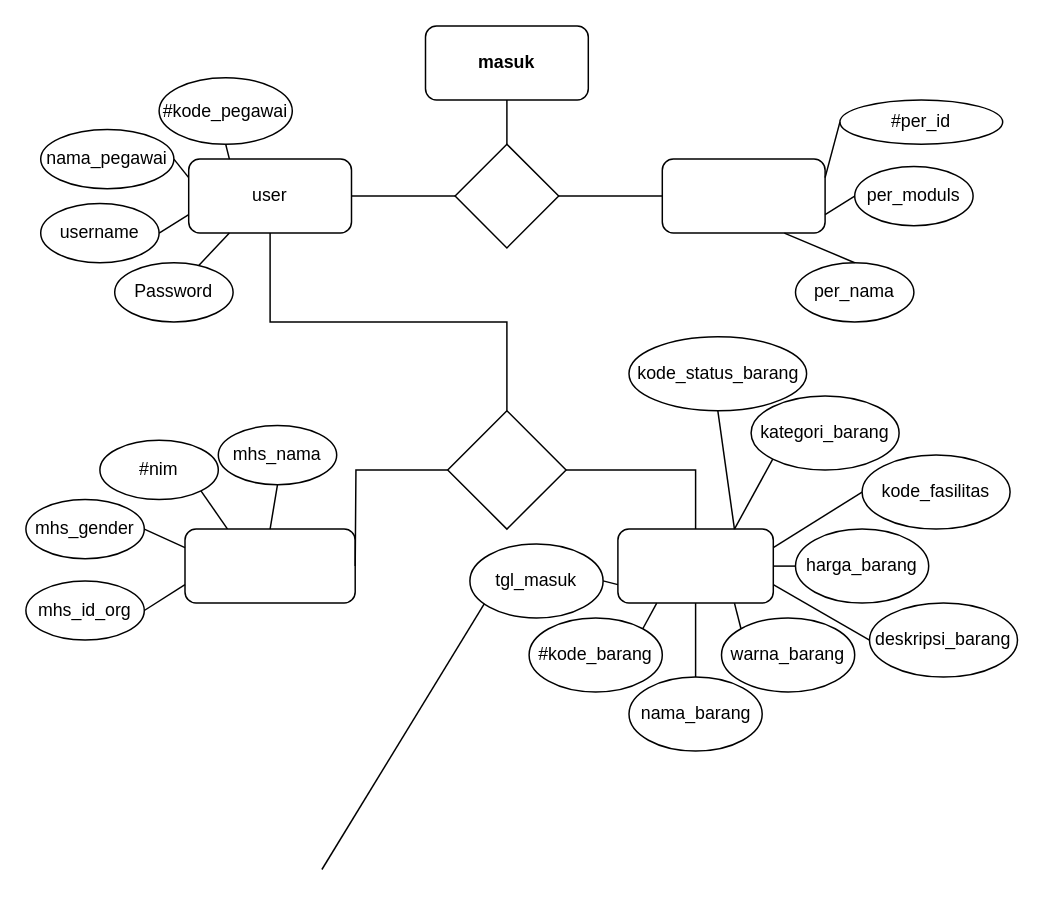
Some shapes in this 1043 by 897 pixel diagram are drawn without their labels. Here are the shapes that lost their labels. From the top down, the centre of each, then its label:
pixel 506 195: has
pixel 743 195: permission
pixel 506 469: manage
pixel 269 565: MAHASISWA
pixel 694 565: INVENTORY
